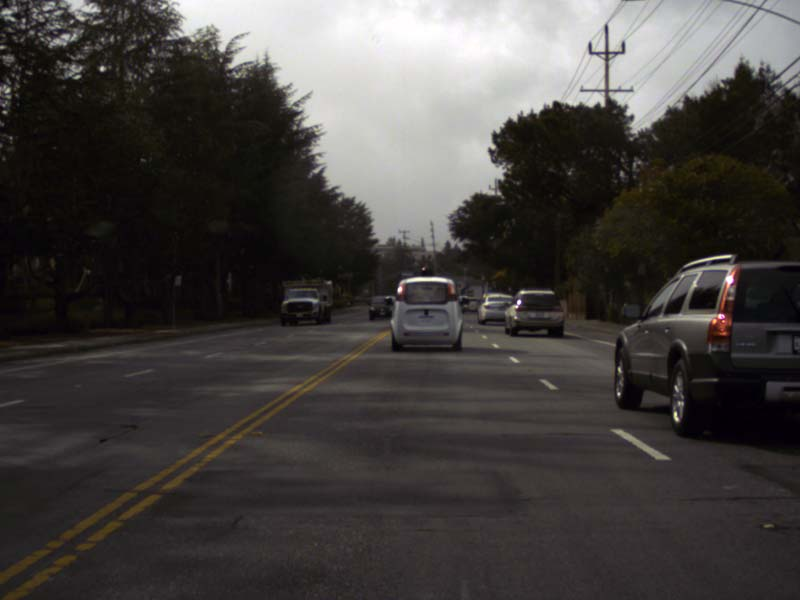Green: (464, 287, 467, 294)
